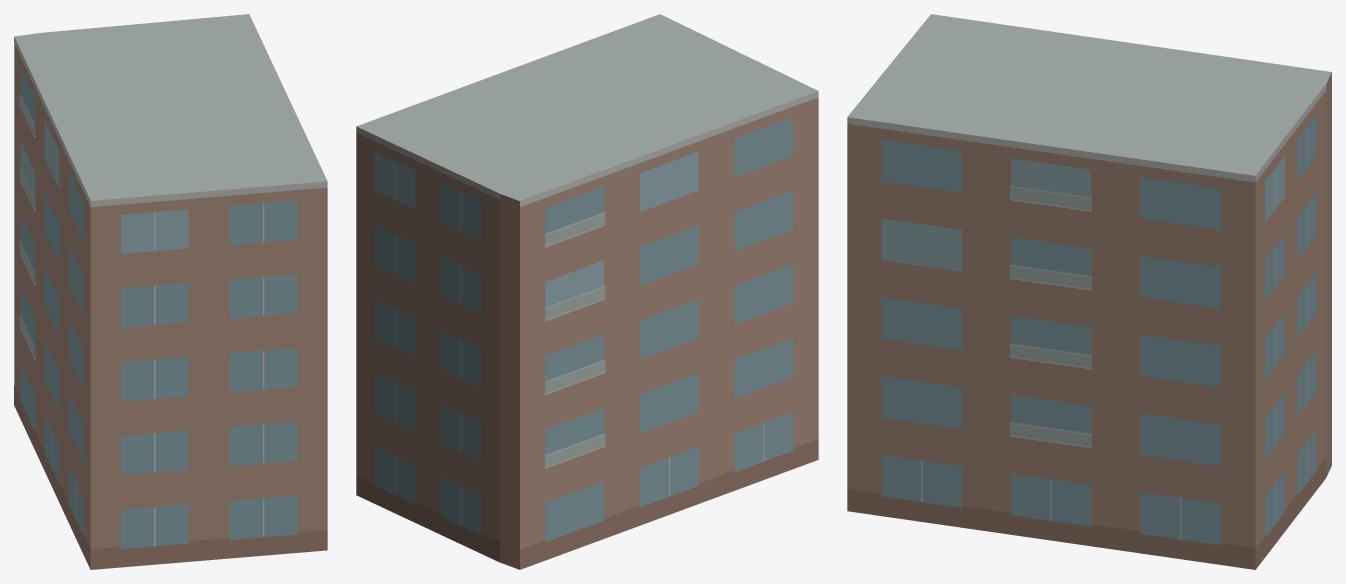
The model's file is survey-upis-32852638.glb.
3 views of the same model, side by side, from view 1: azimuth 30°, elevation 25°; view 2: azimuth 150°, elevation 25°; view 3: azimuth 270°, elevation 25° (orthographic). The views are drawn at different scales.
Parts seen in each view (by area): view 1: survey-upis-32852638.tmp; view 2: survey-upis-32852638.tmp; view 3: survey-upis-32852638.tmp.
Boxes of the visible parts, x1,y1,x2,y2 form: survey-upis-32852638.tmp: (14, 14, 327, 569); survey-upis-32852638.tmp: (356, 14, 818, 569); survey-upis-32852638.tmp: (847, 14, 1331, 569).
Bounding box in the file's own units: 12.78 × 14.5 × 16.17.
